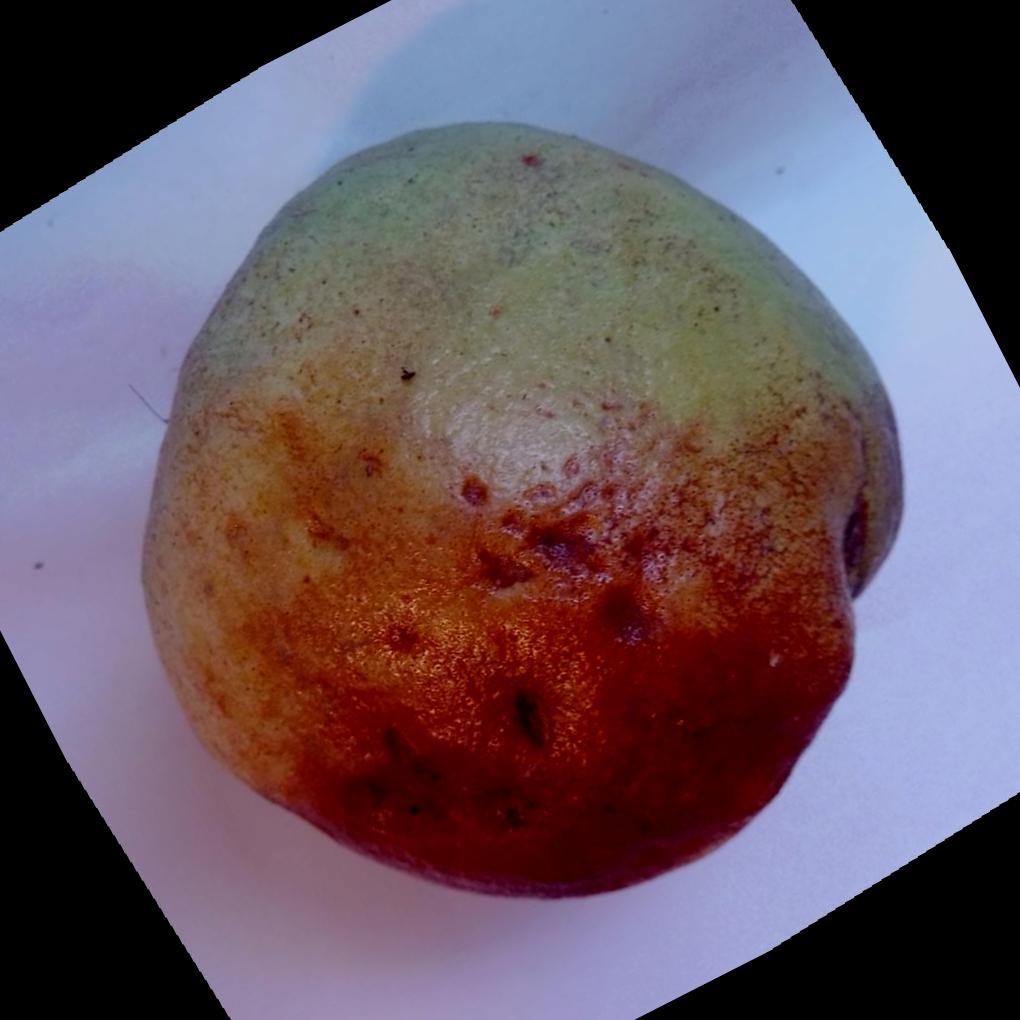FreshOrange: (135, 114, 904, 897)
